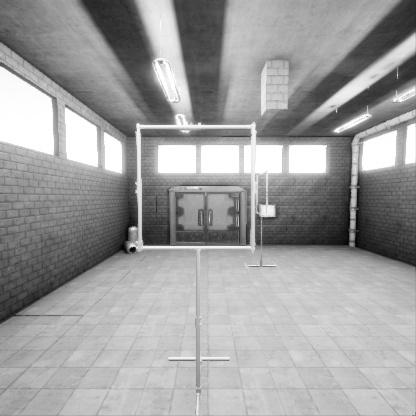gate: (144, 173, 263, 291), (256, 200, 268, 247)
